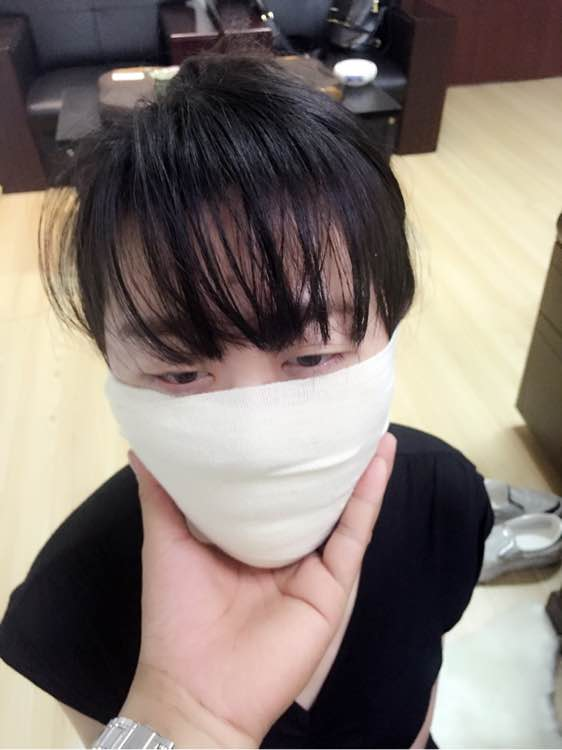face_mask: (110, 185, 381, 559)
